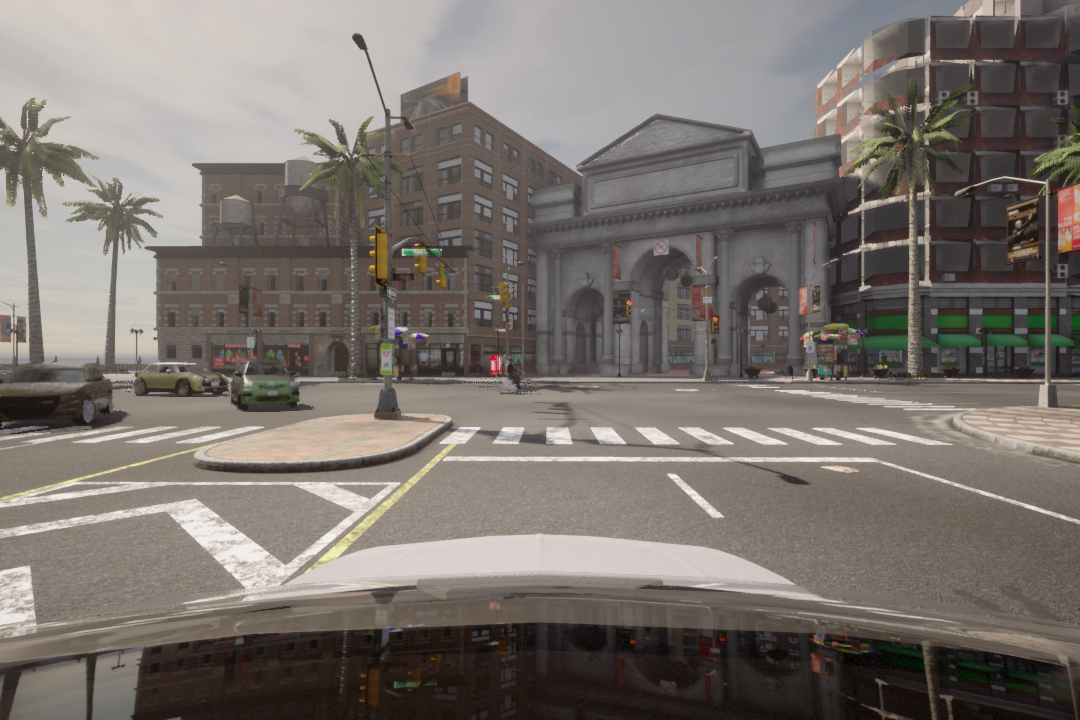TrafficLight: (711, 314, 721, 336), (625, 299, 633, 321)
TrafficSign: (653, 239, 667, 255)
walkside: (444, 424, 937, 454), (1, 417, 250, 446)
